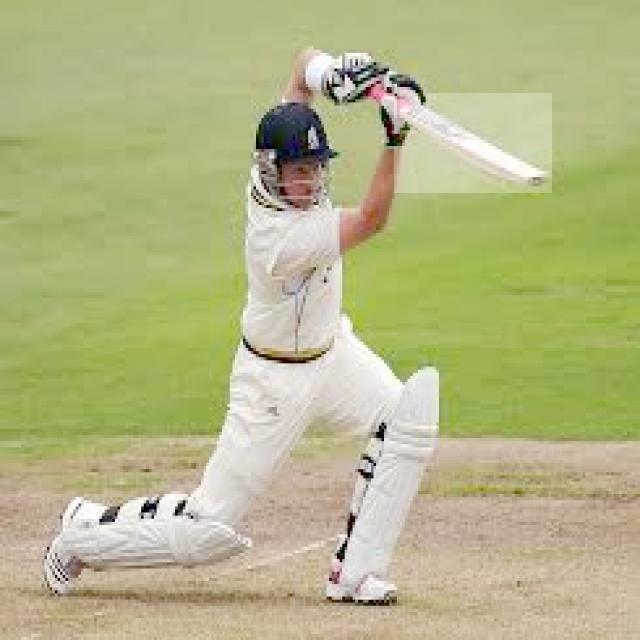bat: (393, 90, 553, 196)
toe: (518, 167, 551, 192)
